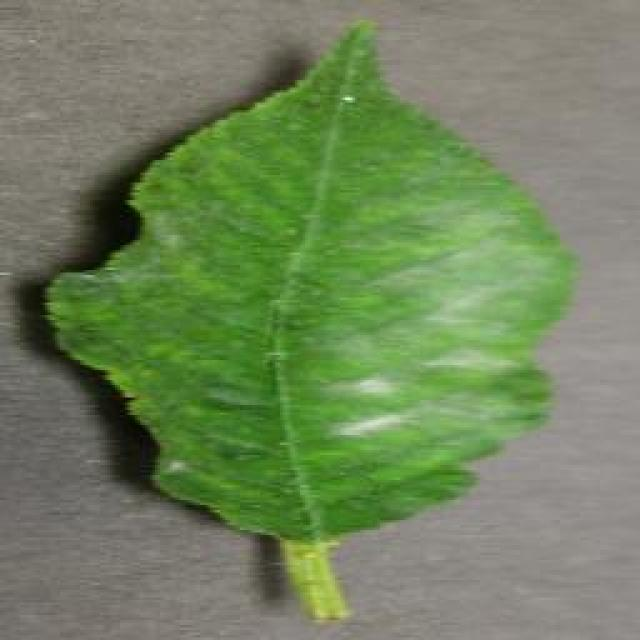Cherry___Powdery_mildew: (30, 7, 585, 635)
